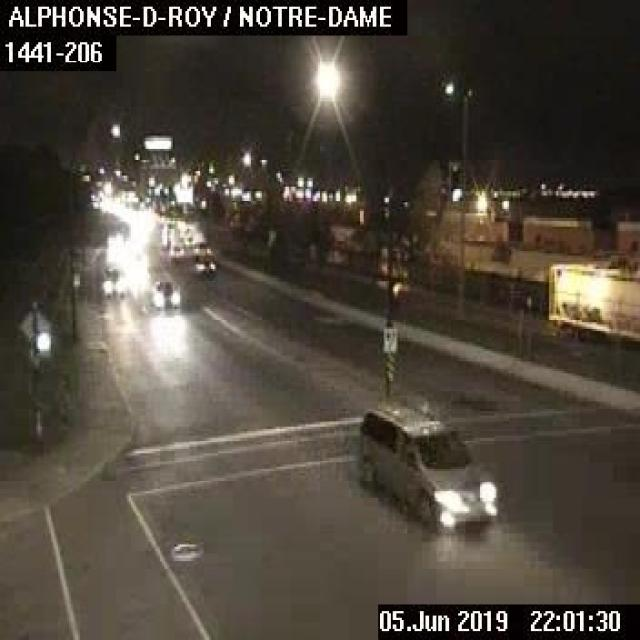vehicle: (356, 395, 493, 529), (151, 280, 181, 310), (100, 267, 129, 296), (194, 256, 214, 276)
